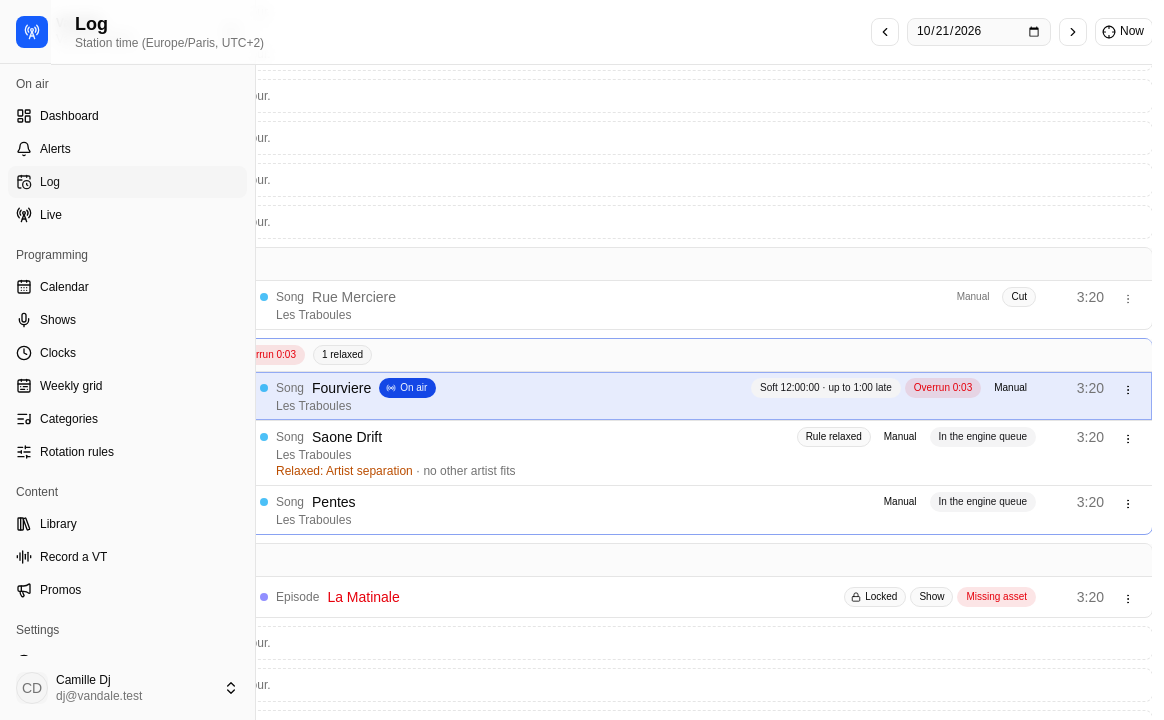
log timeline › keeps locked items unchanged until unlocked, and explains api refusals
This screenshot has width=1164, height=720.
(page scrolled)
Expected: the text "La Matinale" is shown, [327, 587, 400, 607]
Click the button named "Actions for La Matinale" at (1128,599), box [1116, 587, 1140, 611]
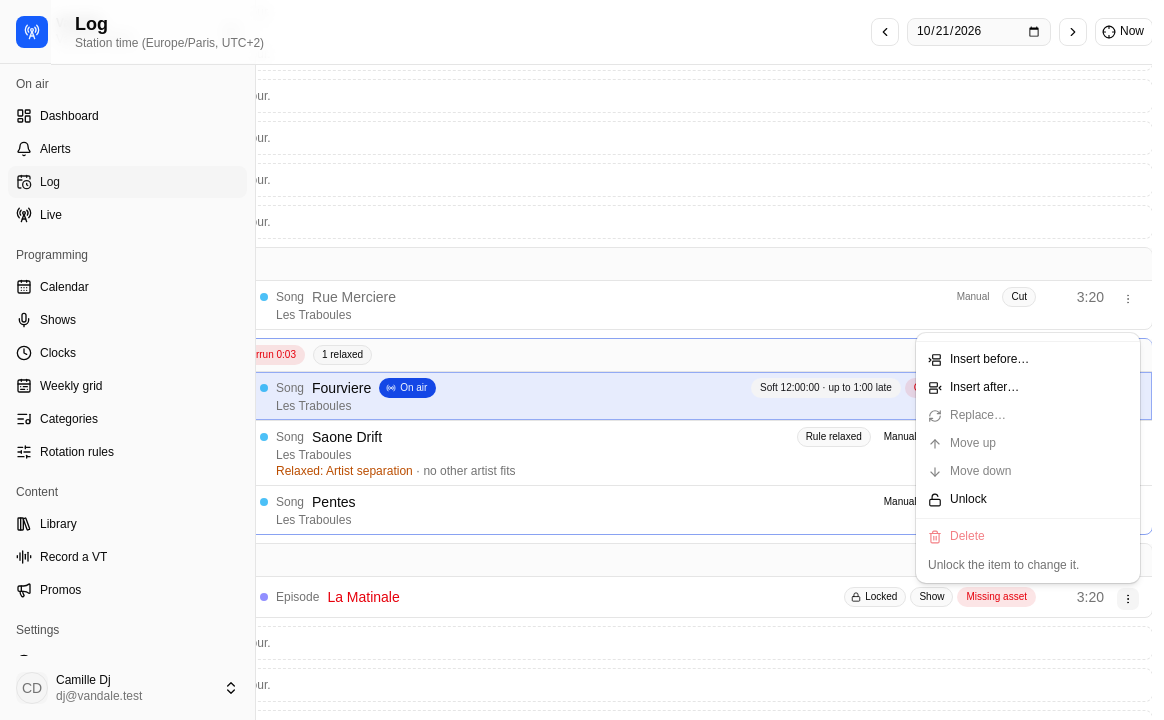
Now the text "Unlock the item to change it." is shown, box [928, 558, 1079, 572]
Click the menu item "Unlock" at (957,500), box [928, 492, 987, 507]
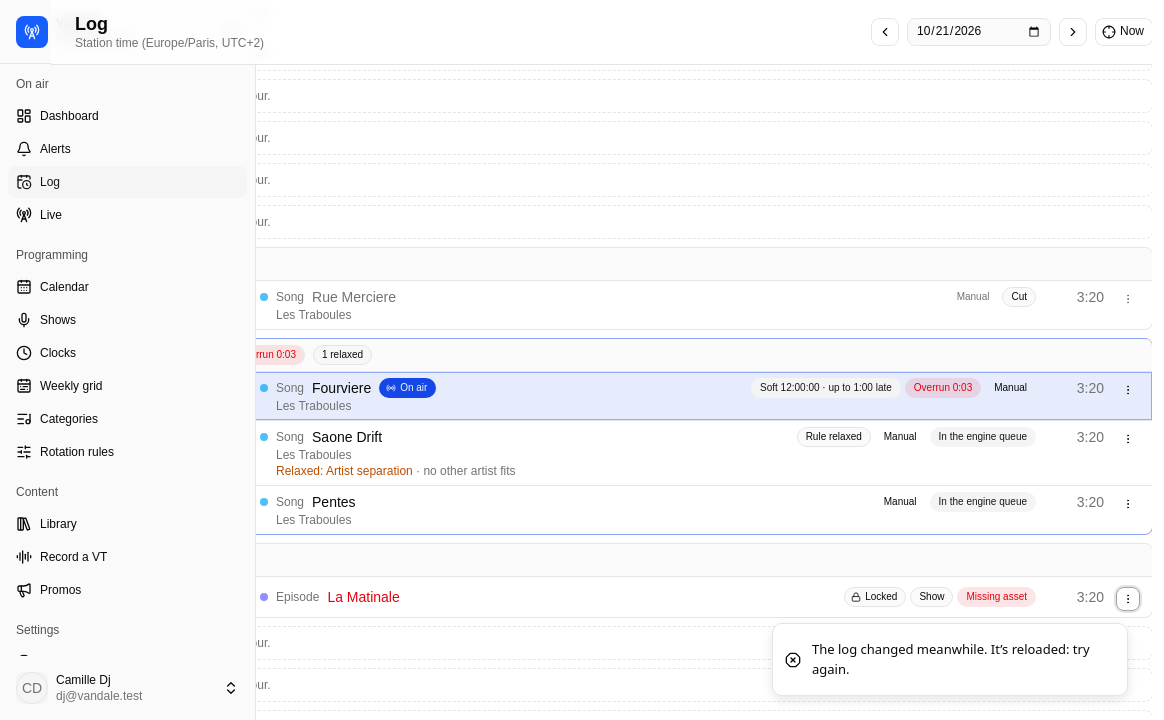
Now the text "The log changed meanwhile. It’s reloaded: try again." is shown, box [812, 640, 1111, 679]
